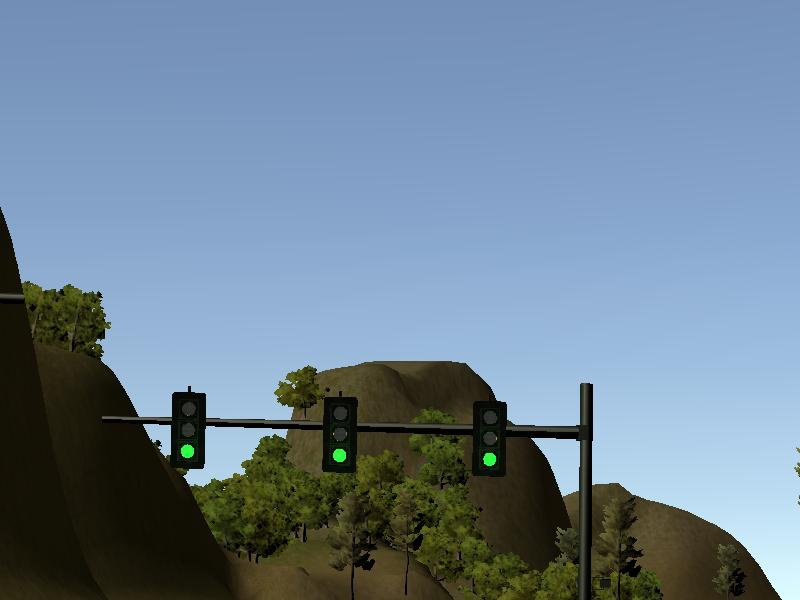Green: (322, 397, 358, 471), (171, 393, 204, 469), (473, 402, 506, 476)
